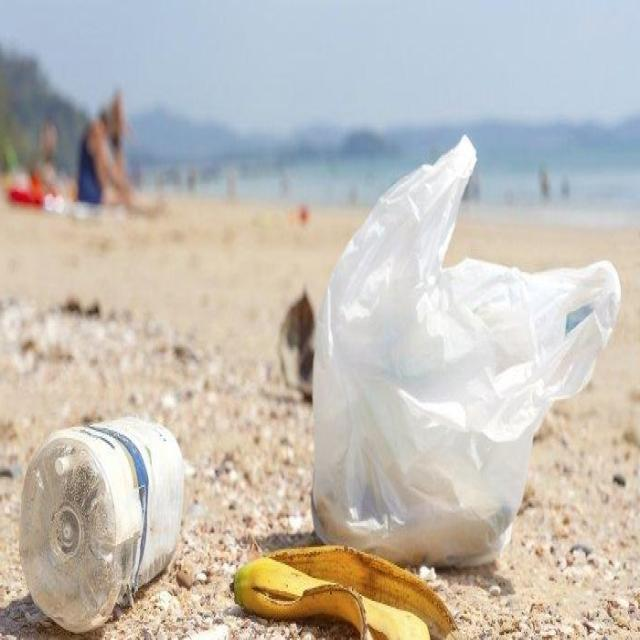sampah-detection: (305, 136, 627, 574), (12, 406, 193, 640), (226, 540, 459, 640)
